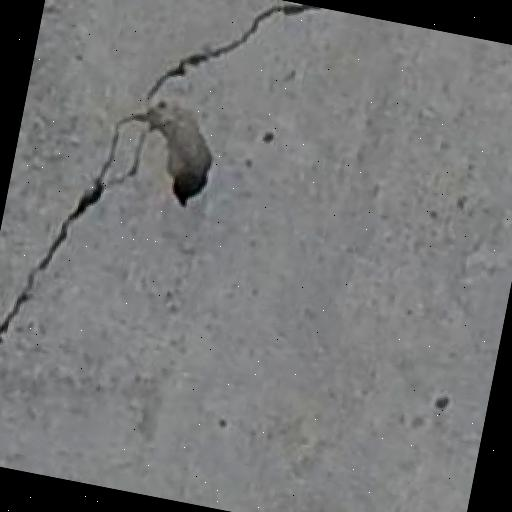spalling: (0, 2, 311, 362)
